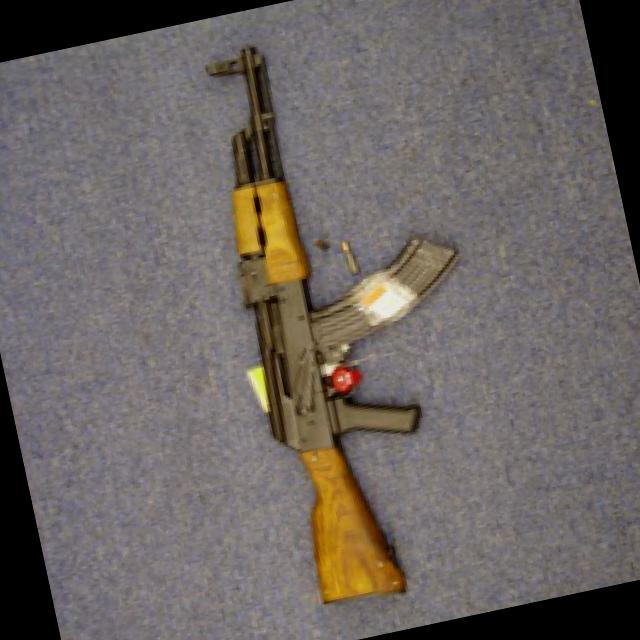long weapon: (156, 36, 461, 618)
